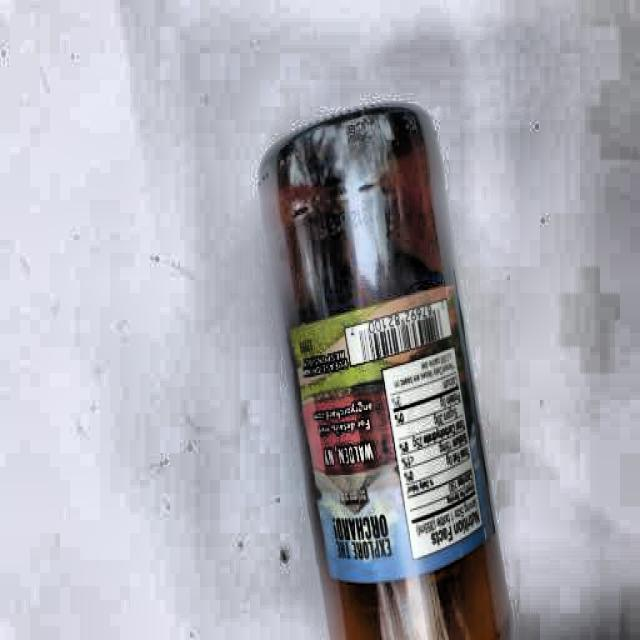glass: (253, 91, 511, 640)
